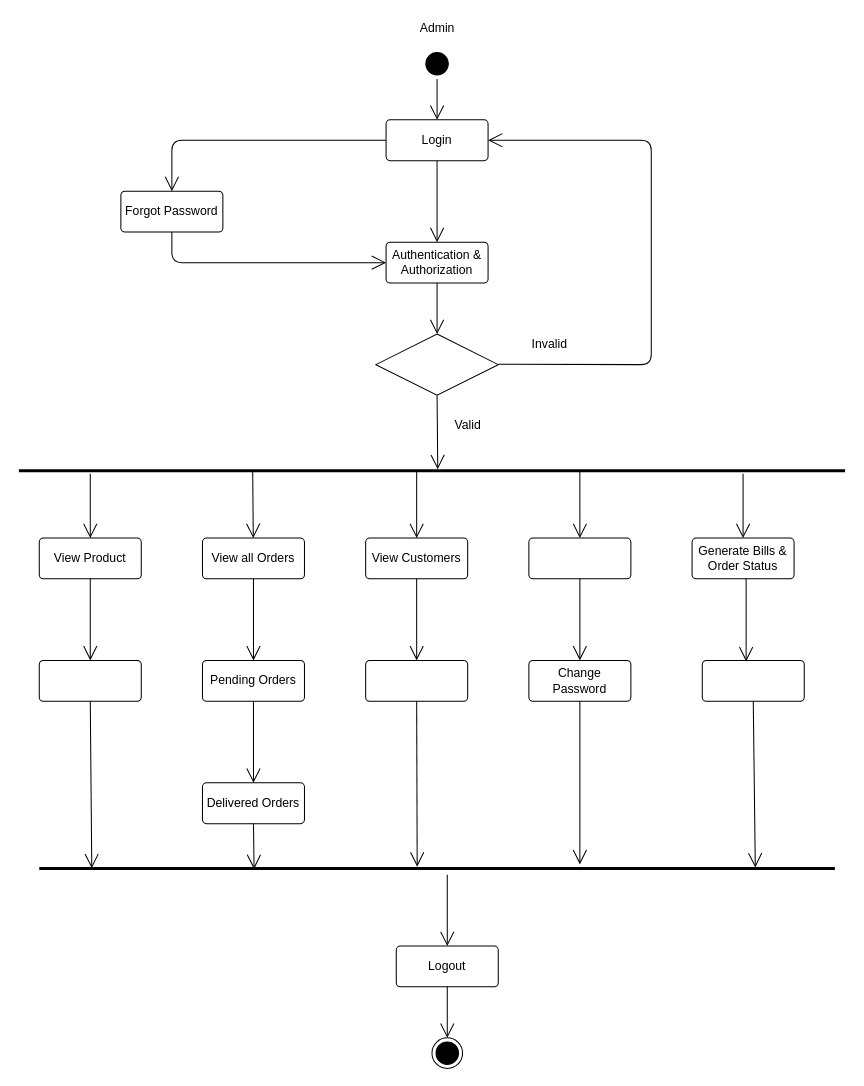
The diagram is 864 pixels wide and 1086 high, and some of its shapes have lost their labels. The box of each missing label's shape, as (x1, y1, x2, y2) in pixels:
Add Product: (38, 659, 141, 701)
Admin Account: (528, 537, 631, 579)
Check: (375, 333, 498, 395)
Email Send to User: (701, 659, 804, 701)
View Contact: (365, 659, 468, 701)
